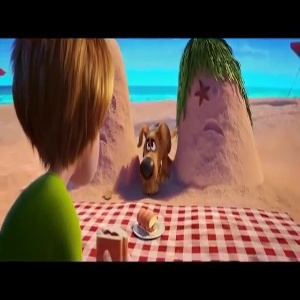Scooby: (133, 121, 171, 193)
